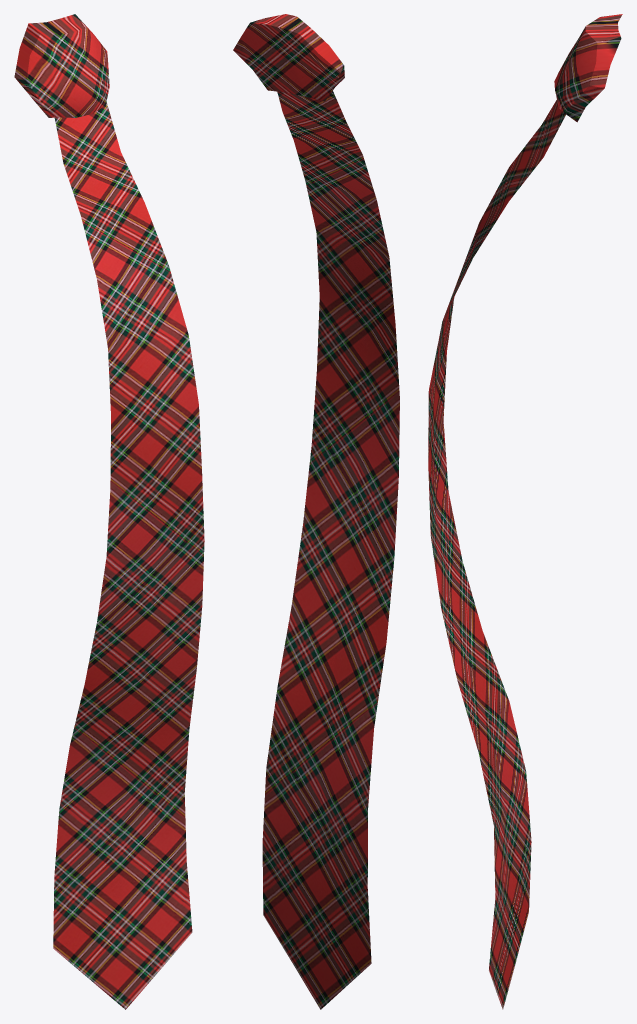
Rendered from Pose-0_SuitTie-1.fbx.
The picture shows the model from 3 angles, left to right: view 1: azimuth 30°, elevation 25°; view 2: azimuth 150°, elevation 25°; view 3: azimuth 270°, elevation 25°; orthographic projection. The views are drawn at different scales.
Parts seen in each view (by area): view 1: Pose-0_SuitTie-1; view 2: Pose-0_SuitTie-1; view 3: Pose-0_SuitTie-1.
Boxes of the visible parts, box(x1,y1,x2,y2) form: Pose-0_SuitTie-1: box(14, 14, 204, 1009); Pose-0_SuitTie-1: box(233, 14, 399, 1009); Pose-0_SuitTie-1: box(428, 14, 622, 1009).
Size of the model in its own units: 7.02 by 51.29 by 9.26.
